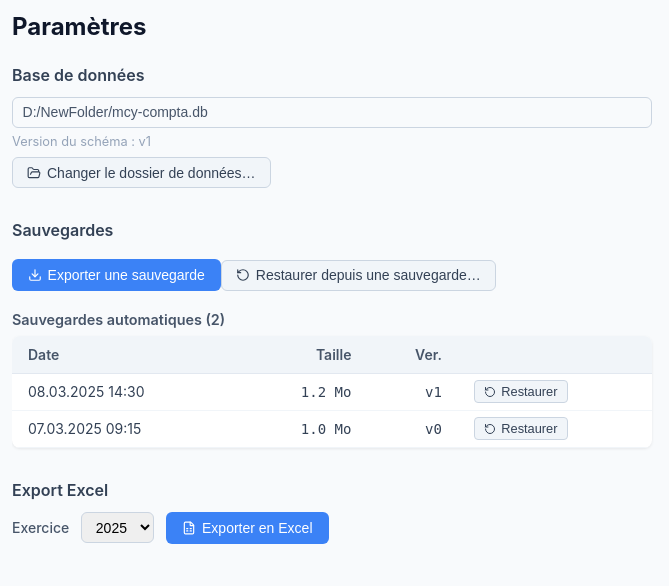
Scenario: SettingsPage — changer le dossier › affiche un message de succès et met à jour le chemin si changeDataDir() retourne true
Click the button "Changer le dossier de données…" at (142, 173), box [12, 157, 271, 188]
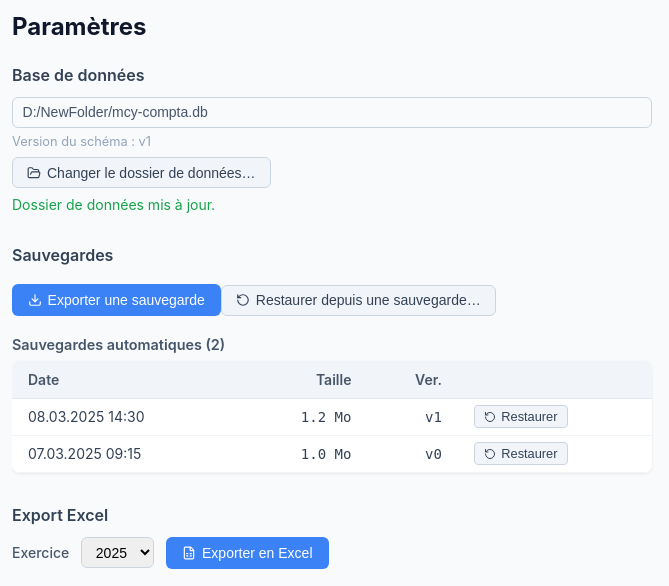
Expected: the field named "Chemin de la base de données" holds "D:/NewFolder/mcy-compta.db", [12, 97, 652, 128]
Expected: the message shows "Dossier de données mis à jour", [12, 196, 215, 213]
